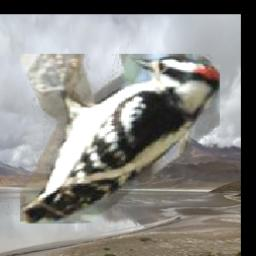Woodpecker: (20, 55, 220, 225)
